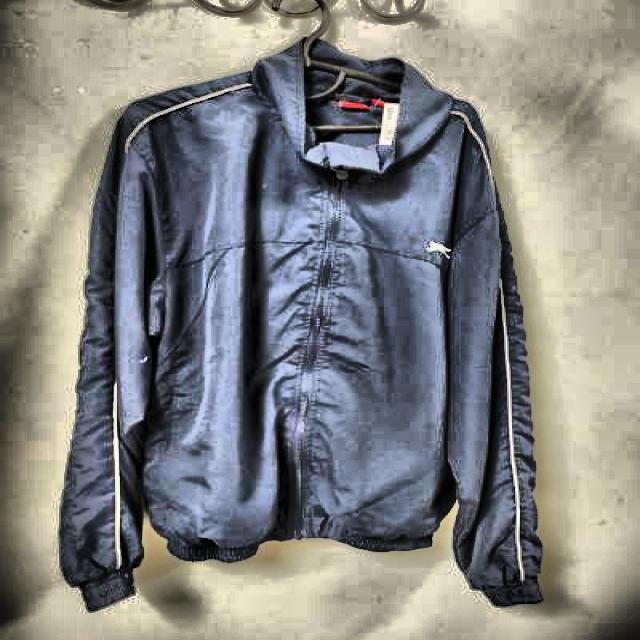clothes: (61, 34, 550, 614)
